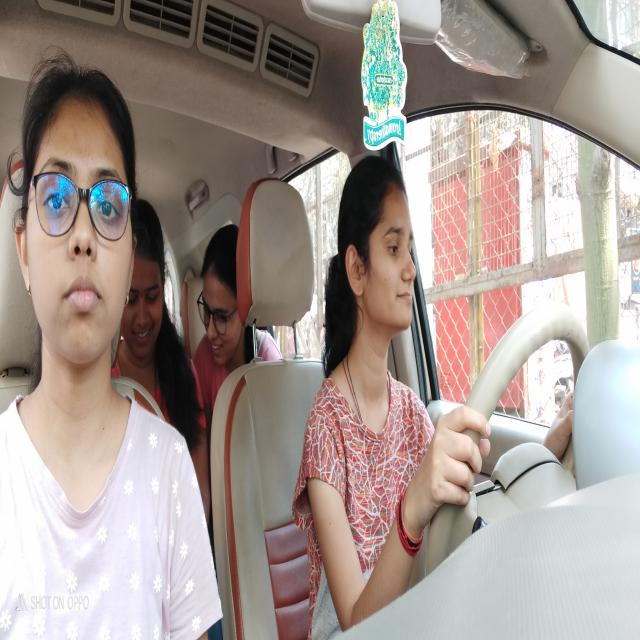person: (11, 59, 138, 412), (330, 153, 424, 372), (199, 215, 257, 372), (128, 194, 179, 366)
